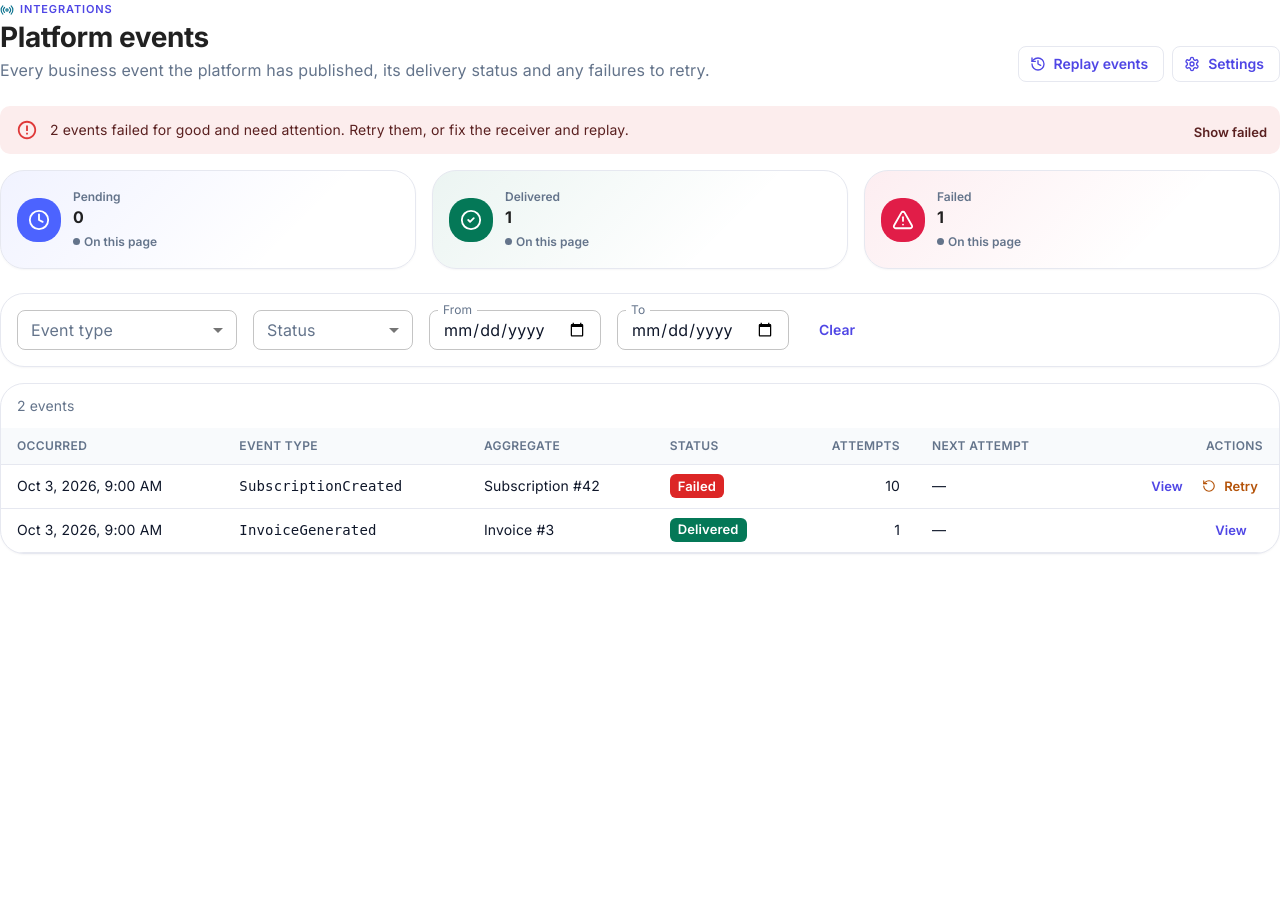
Test: AdminPlatformEventsPage › warns about events that failed for good and offers Replay and Settings
The image size is (1280, 900).
Check: the text "2 events failed for good" is shown, box [50,121,629,138]
Step 1. Click the button "Show failed" → (1230,132), box [1189,117,1272,148]
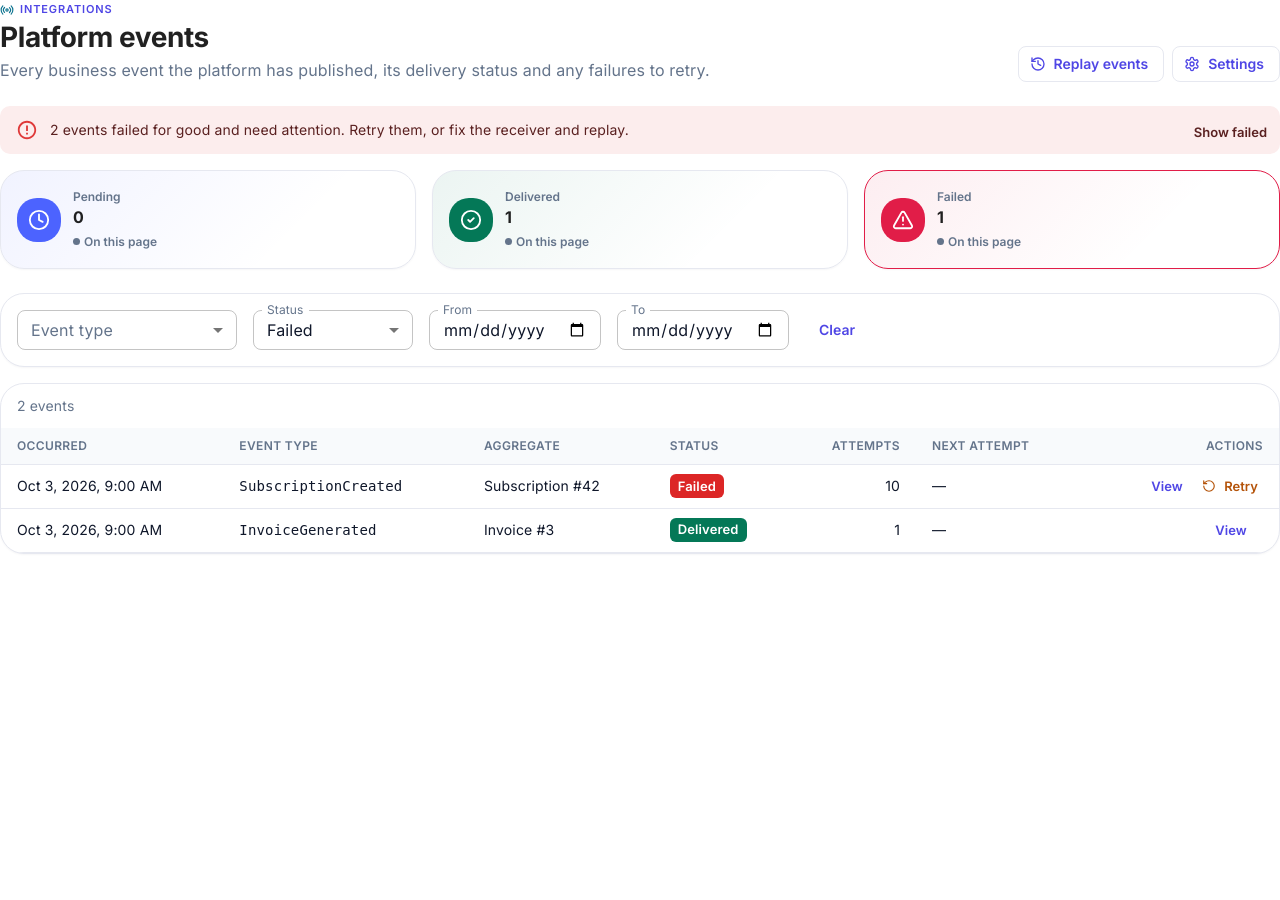
Step 2. Click the button "Replay events" → (1091,64), box [1018,46,1164,82]
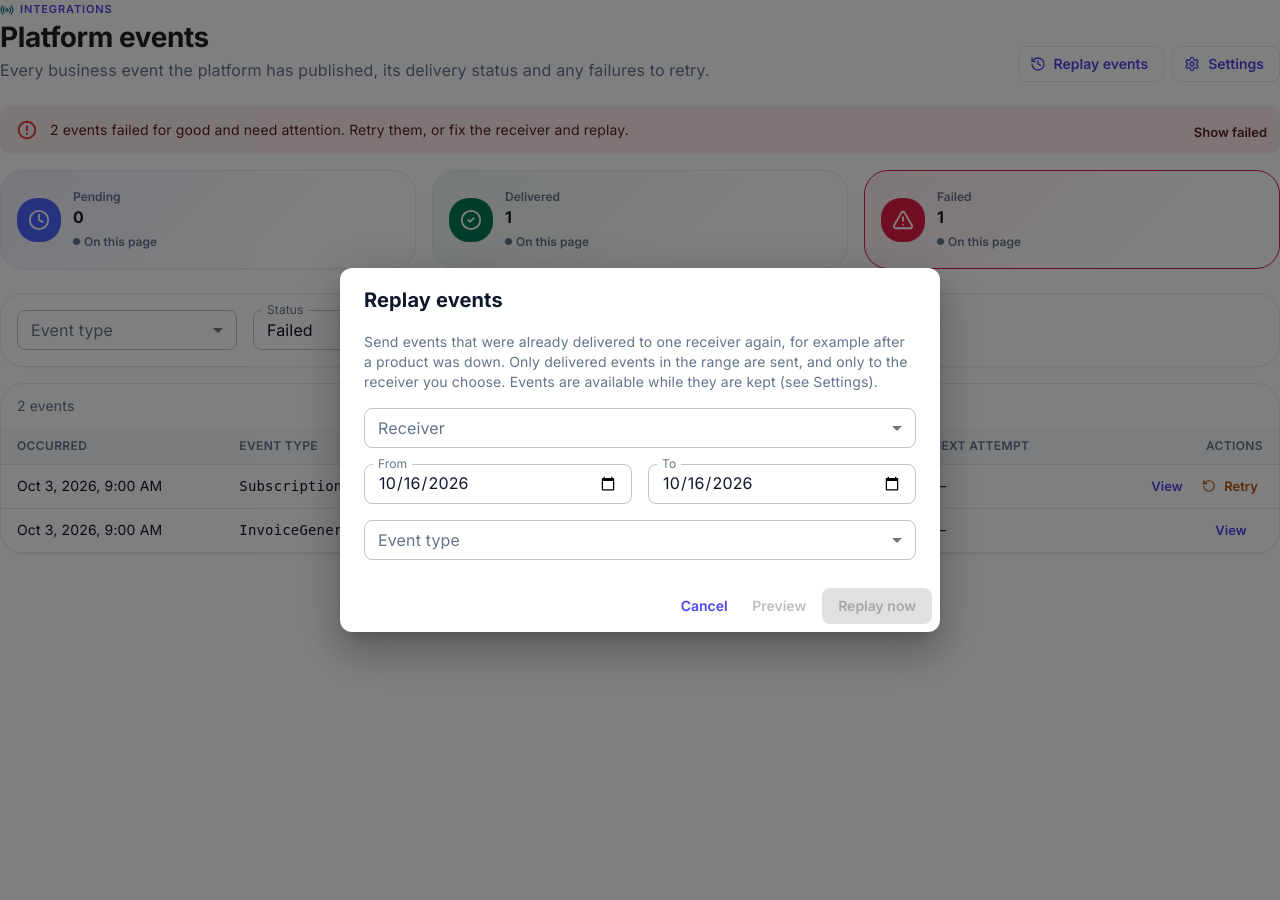
Check: the dialog "Replay events" is shown, box [340,268,940,632]
